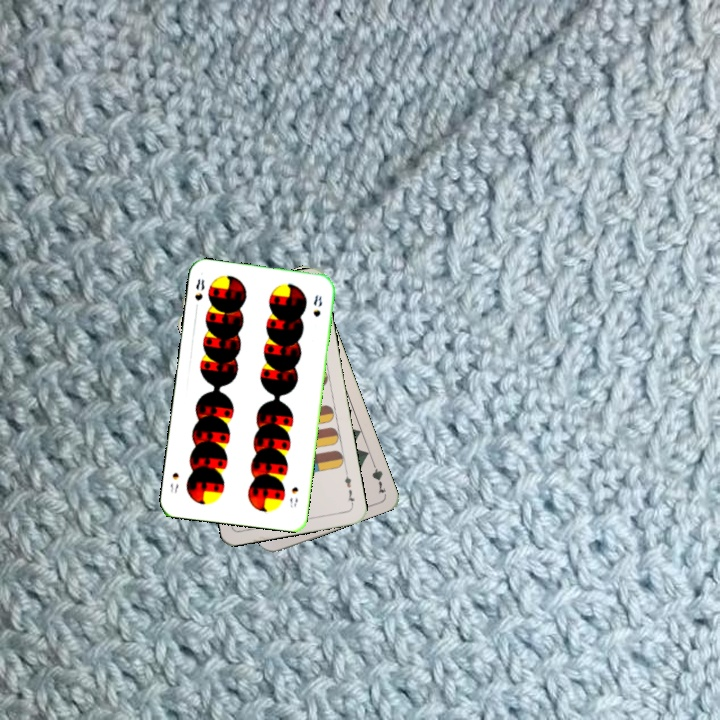E7: (340, 468, 358, 508)
G7: (367, 456, 388, 496)
S8: (191, 275, 207, 303), (286, 483, 301, 510)
